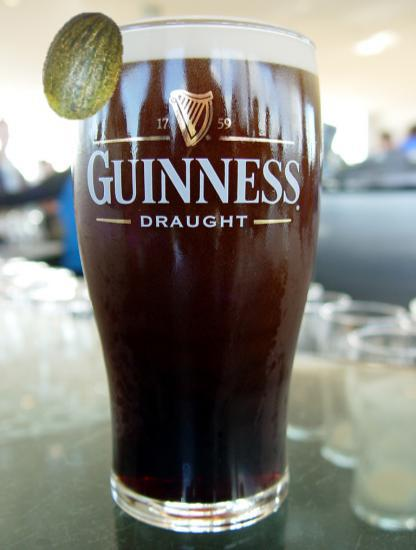Melon: (30, 11, 141, 122)
